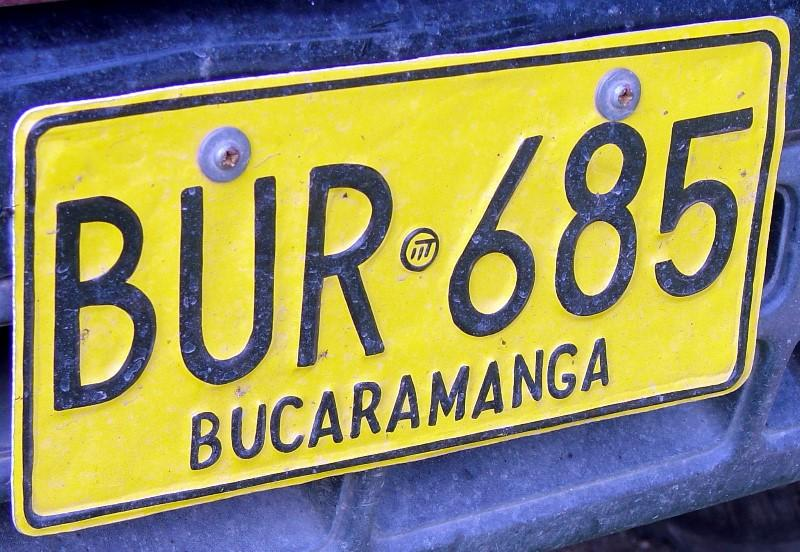placas: (4, 15, 788, 538)
